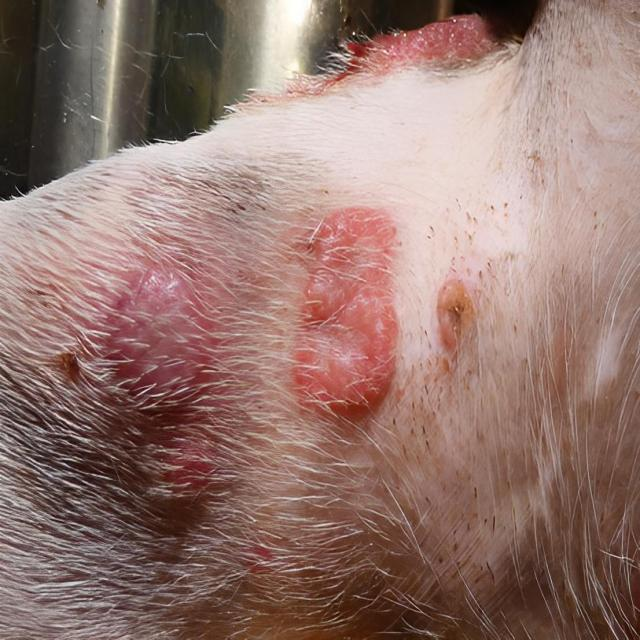allergic dermatitis: (78, 258, 226, 425), (298, 202, 391, 432), (152, 425, 225, 497)
